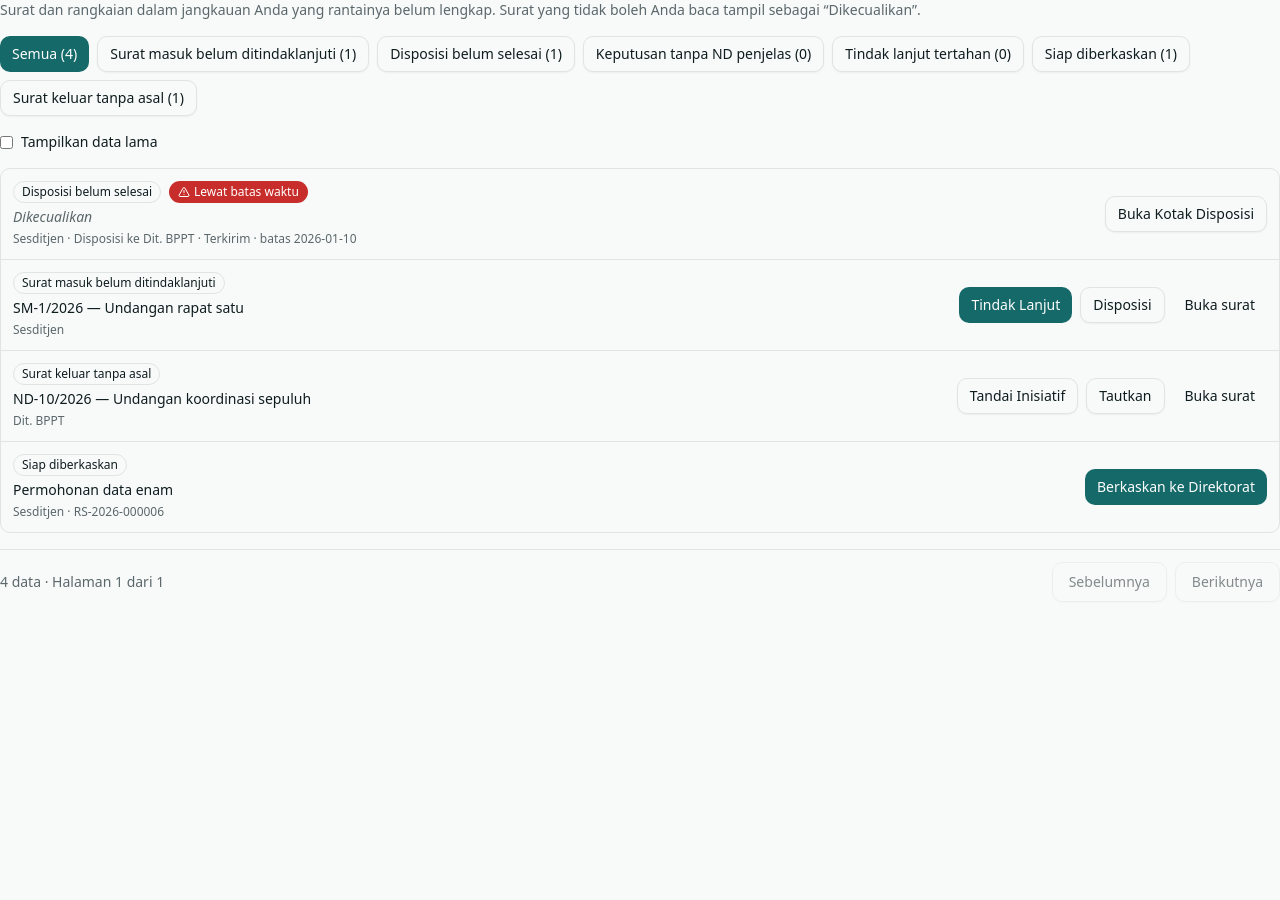
Test: Tab Perlu Dilengkapi (D7) › Tandai Inisiatif meminta konfirmasi, menampilkan galat server, lalu memuat ulang setelah berhasil
Click the button "Tandai Inisiatif": {"x": 1018, "y": 396} left=957, top=378, right=1078, bottom=414
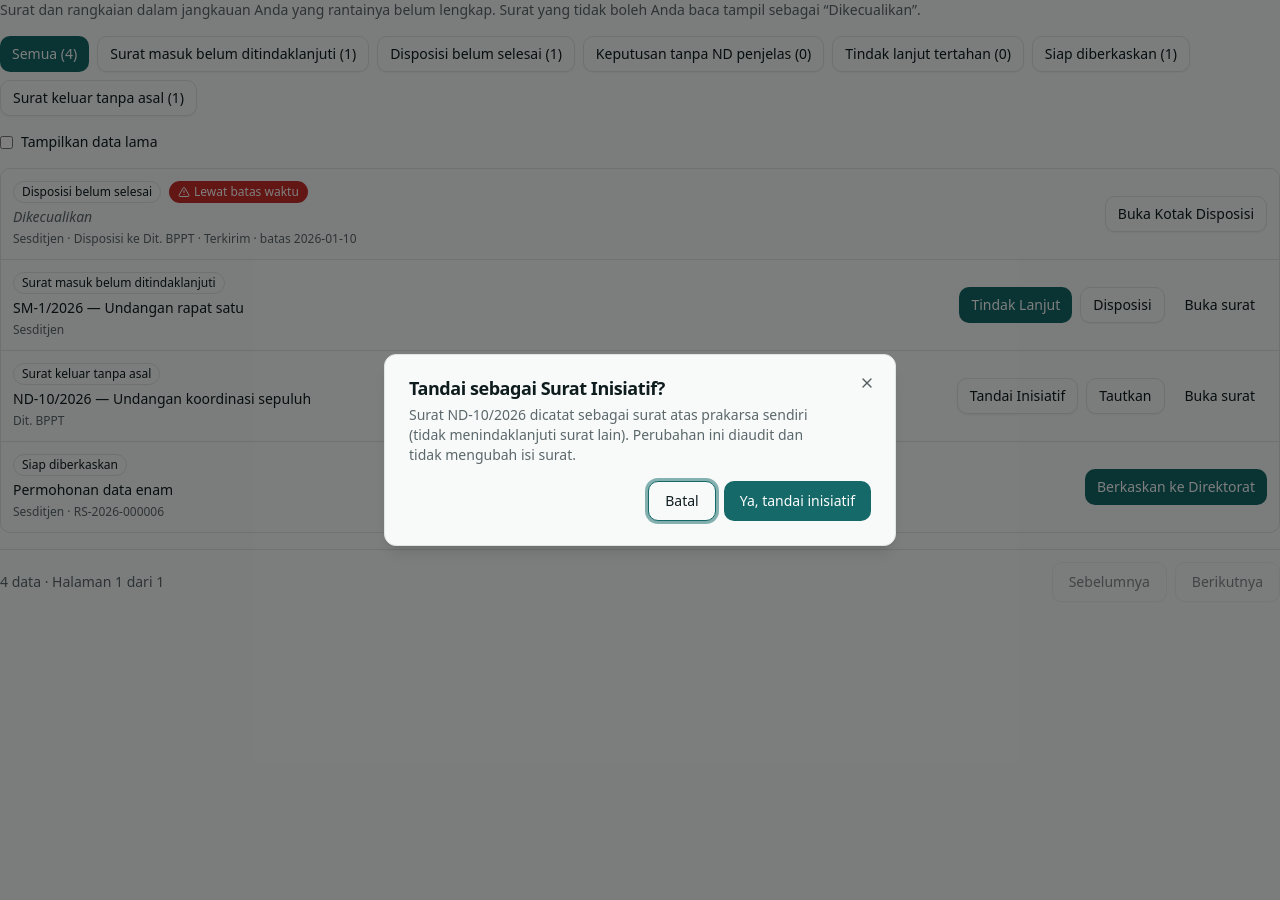
Expected: the dialog "Tandai sebagai Surat Inisiatif?" shows "ND-10/2026", left=447, top=405, right=526, bottom=424
Click the button "Ya, tandai inisiatif": {"x": 797, "y": 501} left=724, top=481, right=871, bottom=521
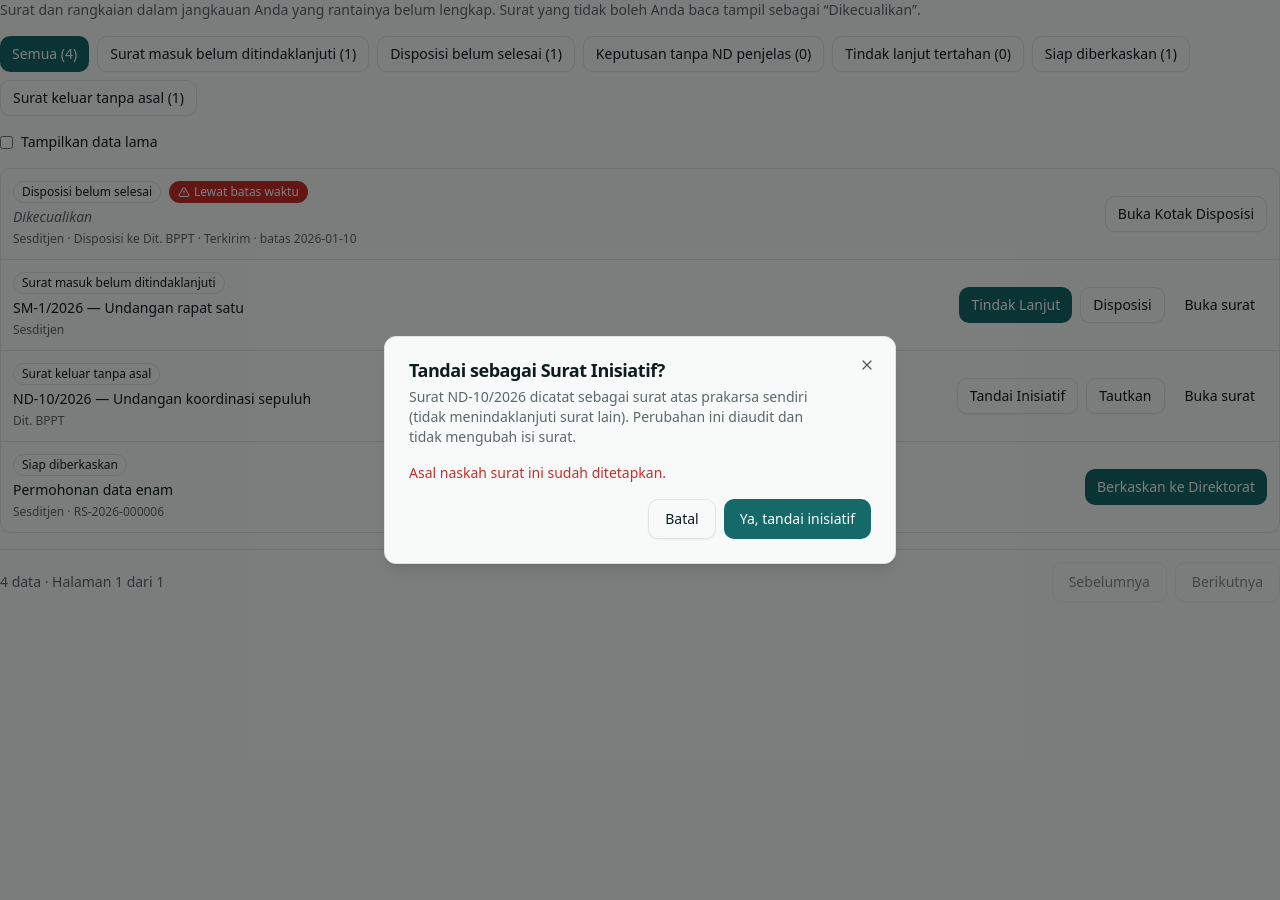
Expected: the message reads "Asal naskah surat ini sudah ditetapkan.", left=409, top=463, right=666, bottom=482
Click the button "Ya, tandai inisiatif": {"x": 797, "y": 519} left=724, top=499, right=871, bottom=539
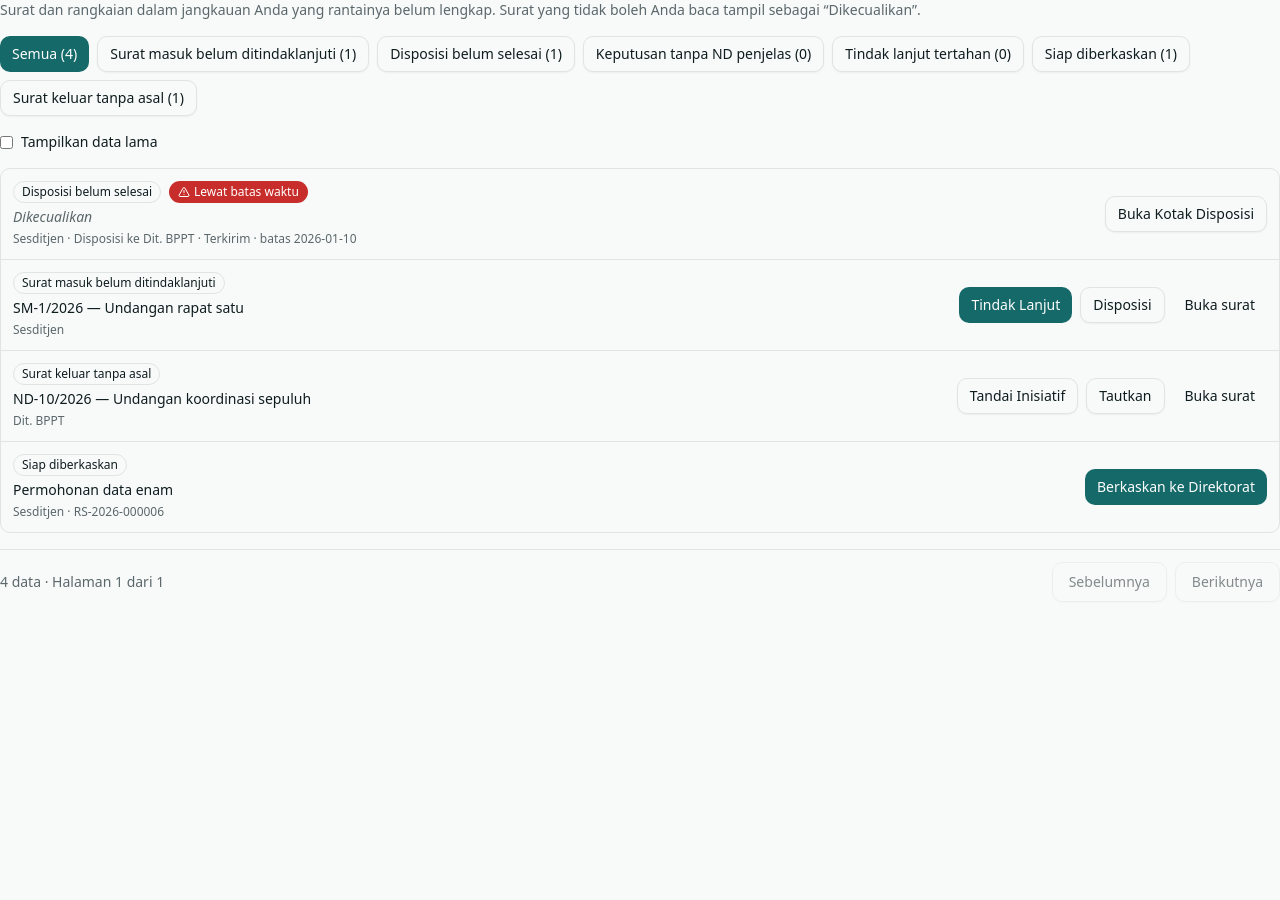
Expected: the heading "Tandai sebagai Surat Inisiatif?" is gone
